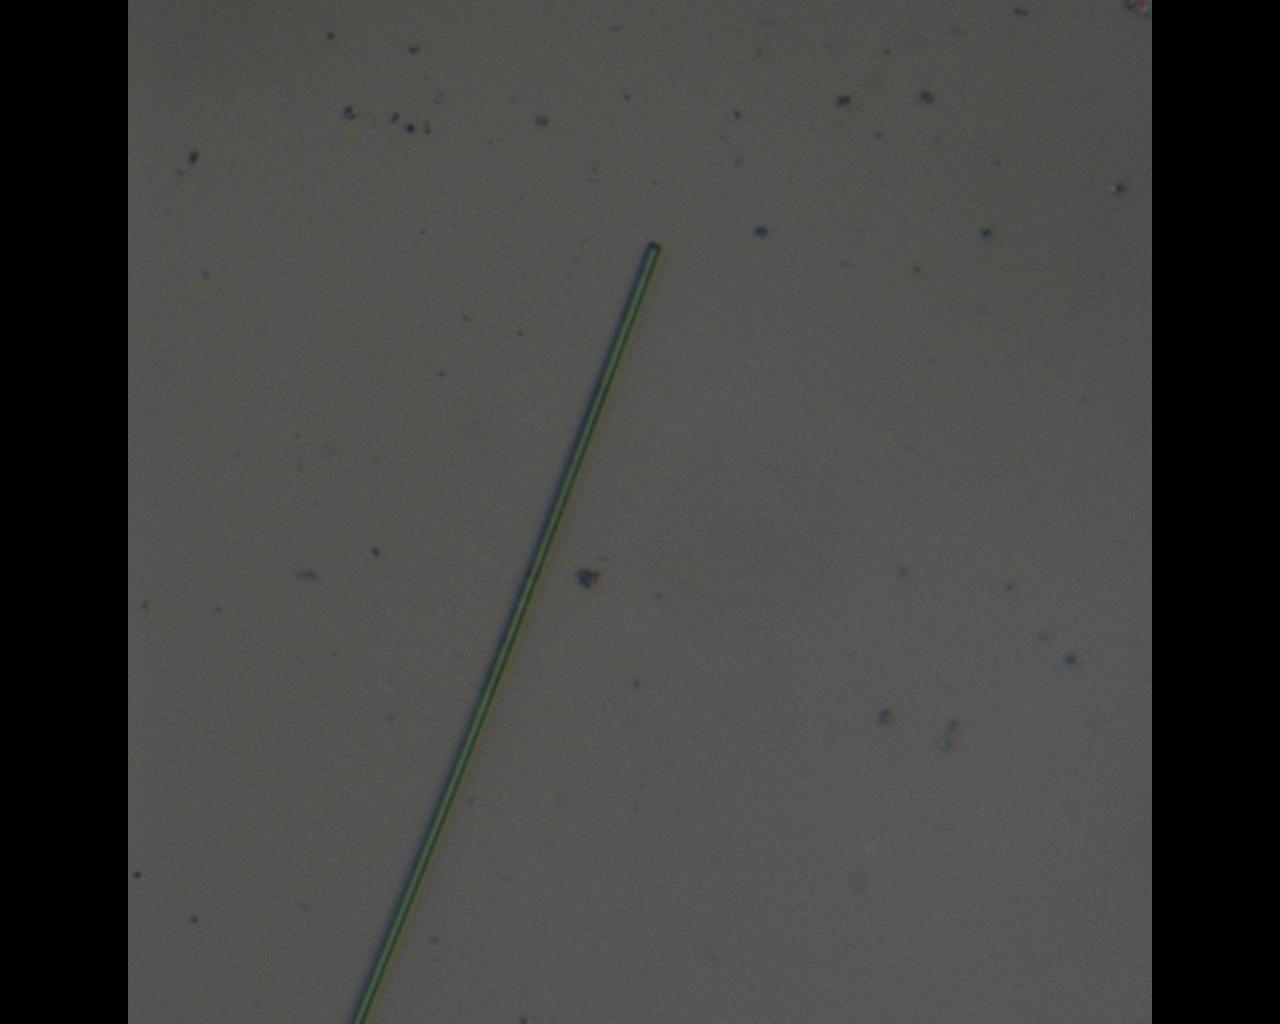fiber: (345, 237, 662, 1024)
